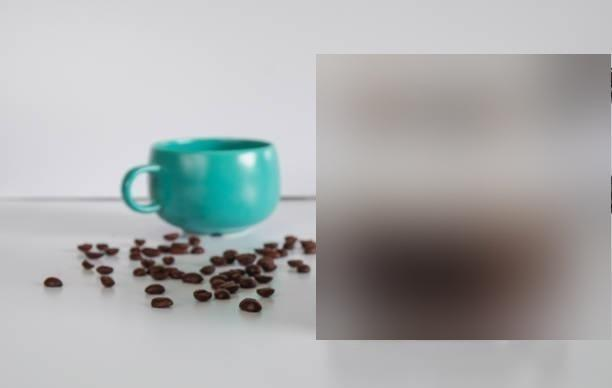cup-handle: (120, 137, 279, 233)
